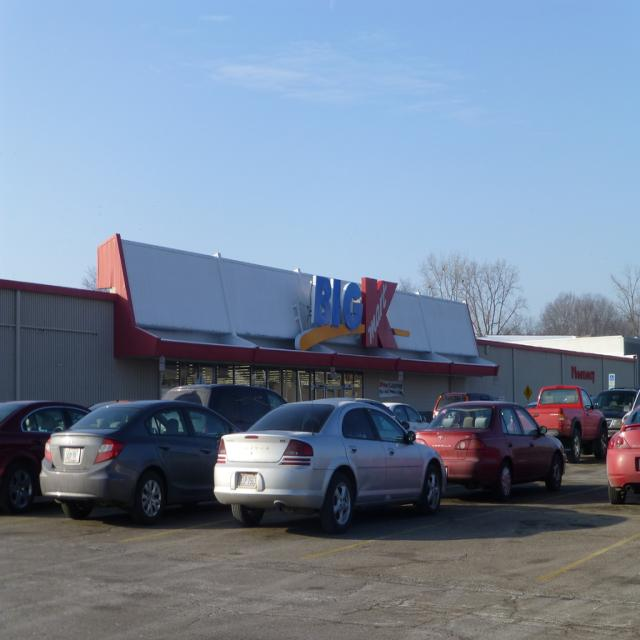car: (184, 401, 468, 532)
